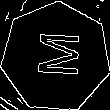M_W: (30, 33, 82, 82)
